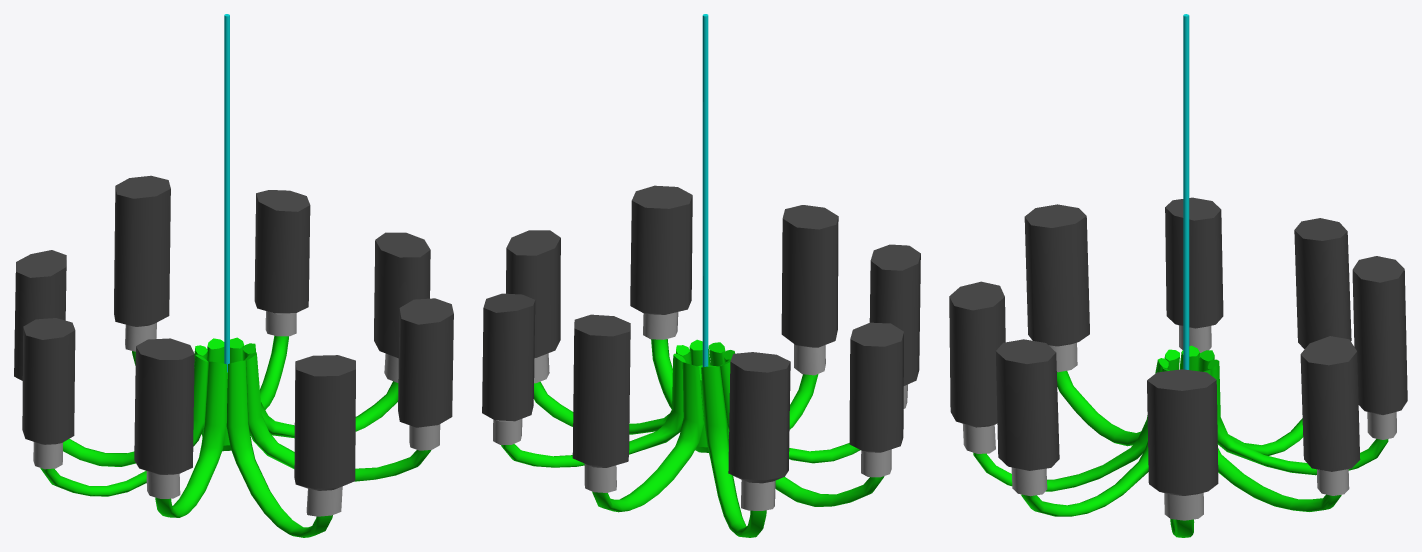
Rendered from Kitchen_Chandelier.fbx.
The picture shows the model from 3 angles, left to right: view 1: azimuth 30°, elevation 25°; view 2: azimuth 150°, elevation 25°; view 3: azimuth 270°, elevation 25°; orthographic projection. The views are drawn at different scales.
Parts seen in each view (by area): view 1: Kitchen_Chandelier; view 2: Kitchen_Chandelier; view 3: Kitchen_Chandelier.
Part boxes in pixels (x1,y1,x2,y2): Kitchen_Chandelier: [14, 14, 453, 537]; Kitchen_Chandelier: [482, 14, 920, 537]; Kitchen_Chandelier: [949, 14, 1407, 537].
Bounding box in the file's own units: 124 × 140 × 122.
